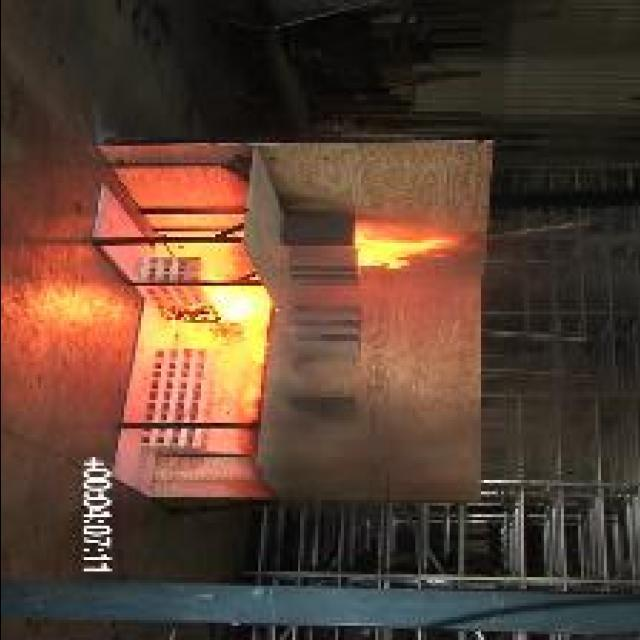Fire: (167, 286, 279, 420), (353, 232, 470, 268)
